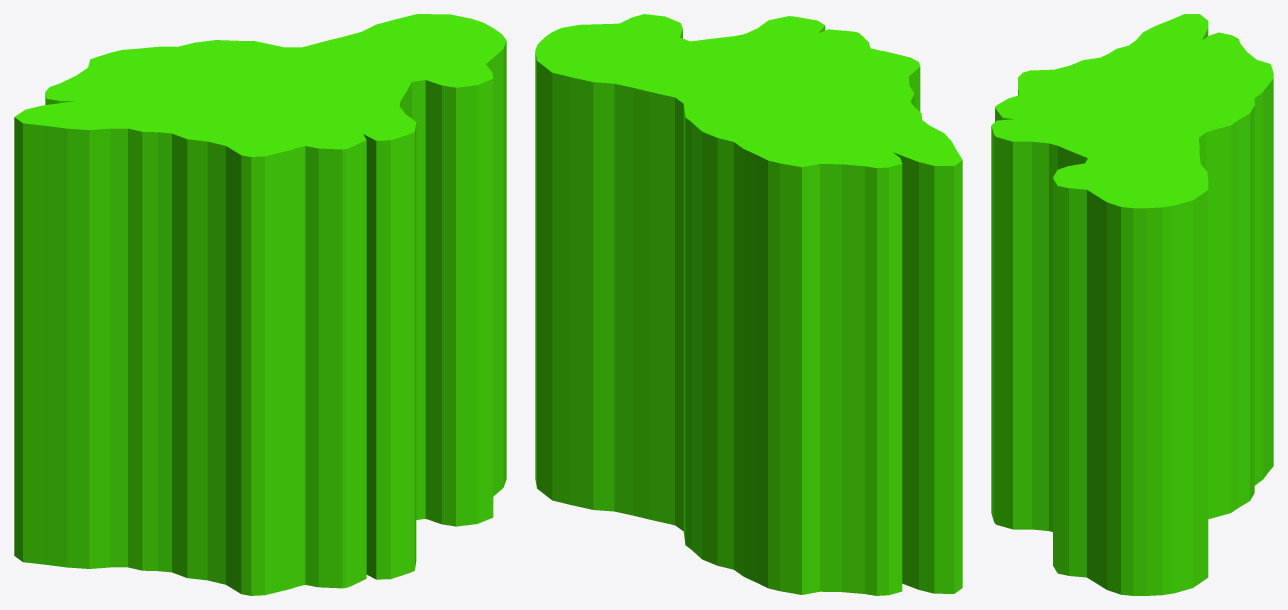
Rendered from forest04.dae.
3 views of the same model, side by side, from view 1: azimuth 30°, elevation 25°; view 2: azimuth 150°, elevation 25°; view 3: azimuth 270°, elevation 25° (orthographic). The views are drawn at different scales.
Parts seen in each view (by area): view 1: Object_014; view 2: Object_014; view 3: Object_014.
Part boxes in pixels (x1,y1,x2,y2): Object_014: [14, 14, 506, 595]; Object_014: [535, 14, 962, 595]; Object_014: [991, 14, 1273, 595].
Size of the model in its own units: 4.39 by 2.7 by 4.08.
